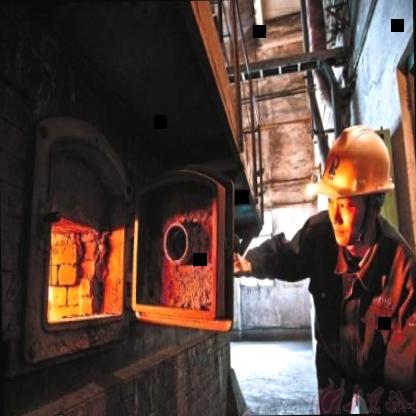helmet: (316, 116, 400, 250)
